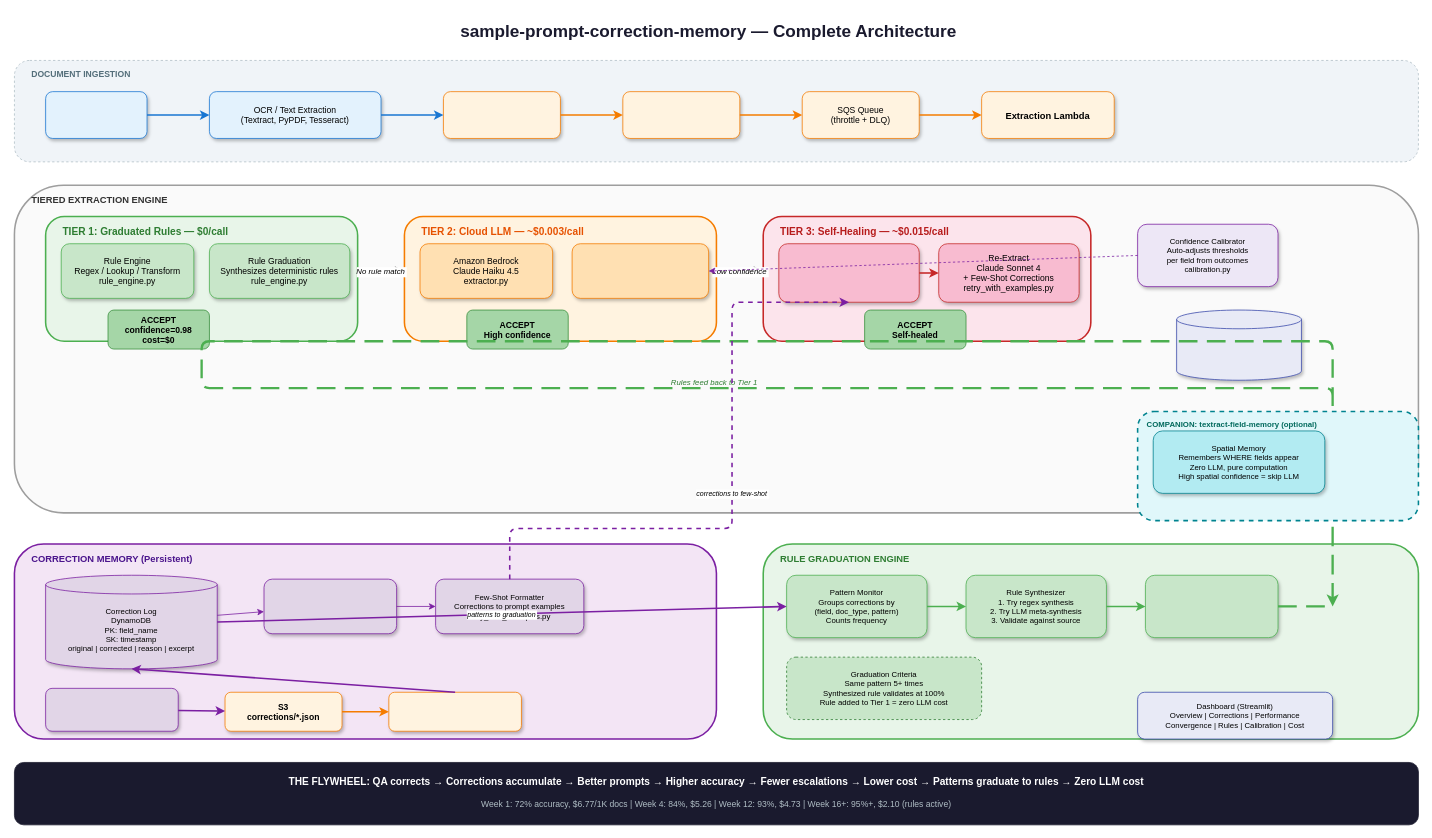
This 1432x838 diagram has some shape labels left out. The shapes that lost their labels are listed below. From the top down, each one's centre as x and y in pixels, then its label:
the point at 97,116: PDF / Image
the point at 502,116: Amazon S3 documents/
the point at 682,116: EventBridge S3 Object Created
the point at 640,272: Confidence Check score >= calibrated threshold? calibration.py
the point at 849,274: Semantic Retrieval TF-IDF / Embeddings semantic_retrieval.py
the point at 1239,346: Extraction Results DynamoDB document_id + field_name
the point at 330,607: Semantic Index TF-IDF / Embeddings Cross-doc-type retrieval
the point at 1212,607: Rule Store graduated_rules.json Loaded at startup Checked before LLM
the point at 112,710: QA Team Reviews extractions Uploads corrections
the point at 455,712: Feedback Lambda feedback/handler.py
